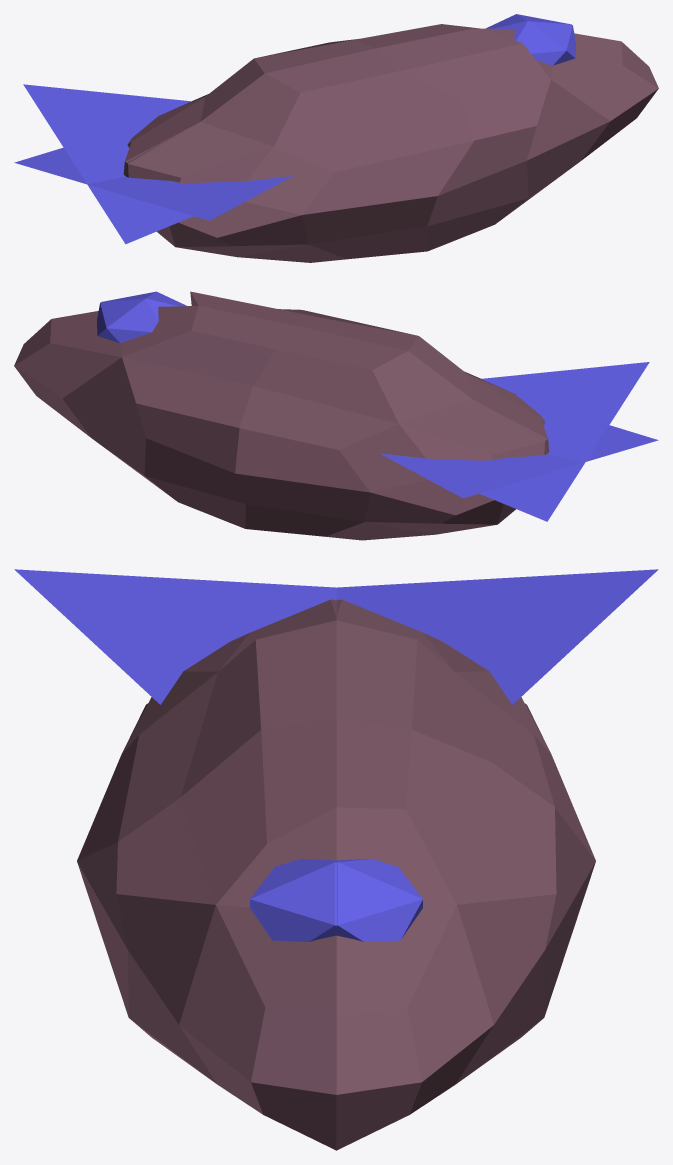
Rendered from spacehip.fbx.
The picture shows the model from 3 angles, top to bottom: view 1: azimuth 30°, elevation 25°; view 2: azimuth 150°, elevation 25°; view 3: azimuth 270°, elevation 25°; orthographic projection. The views are drawn at different scales.
Parts seen in each view (by area): view 1: Procedural Low Poly Rock, Plane; view 2: Procedural Low Poly Rock, Plane; view 3: Procedural Low Poly Rock, Plane.
Part boxes in pixels (<box>): Procedural Low Poly Rock: <box>123,24,658,262</box>; Plane: <box>14,14,575,244</box>; Procedural Low Poly Rock: <box>14,291,549,540</box>; Plane: <box>97,291,658,521</box>; Procedural Low Poly Rock: <box>77,599,595,1150</box>; Plane: <box>14,569,658,941</box>.
Size of the model in its own units: 718 by 214 by 400.
